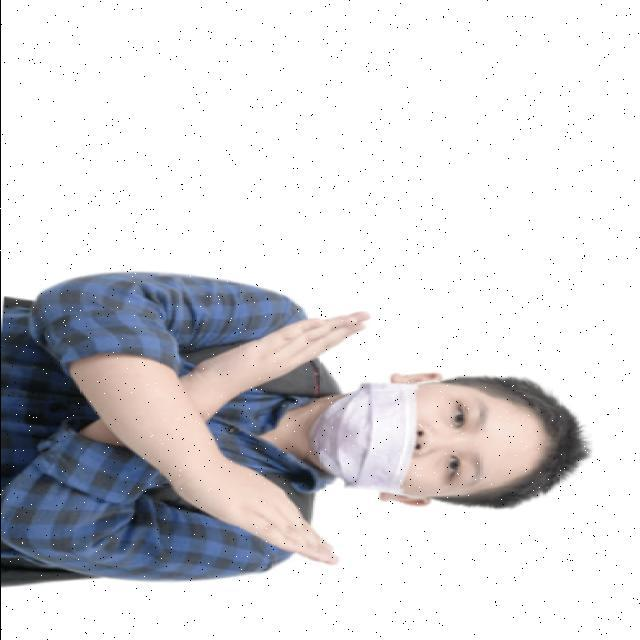face_half_mask: (327, 375, 543, 506)
